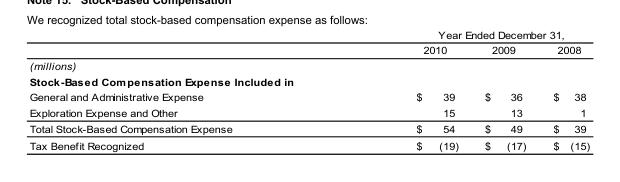table: (28, 28, 589, 151)
table column: (28, 28, 323, 151), (323, 28, 470, 151), (470, 28, 539, 151), (539, 28, 589, 151)
table column header: (28, 28, 589, 57)
table projected row header: (28, 57, 589, 73), (28, 73, 589, 89)
table row: (28, 57, 589, 73), (28, 73, 589, 89), (28, 104, 589, 120), (28, 120, 589, 136), (28, 42, 589, 57), (28, 89, 589, 104), (28, 136, 589, 151), (28, 28, 589, 42)
table spanning cell: (323, 28, 589, 42)
